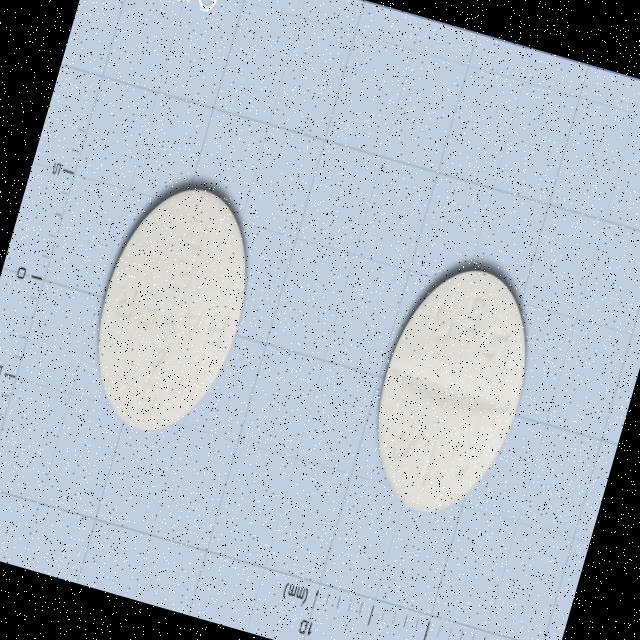Ciprobay: (64, 158, 280, 454), (341, 243, 558, 534)
